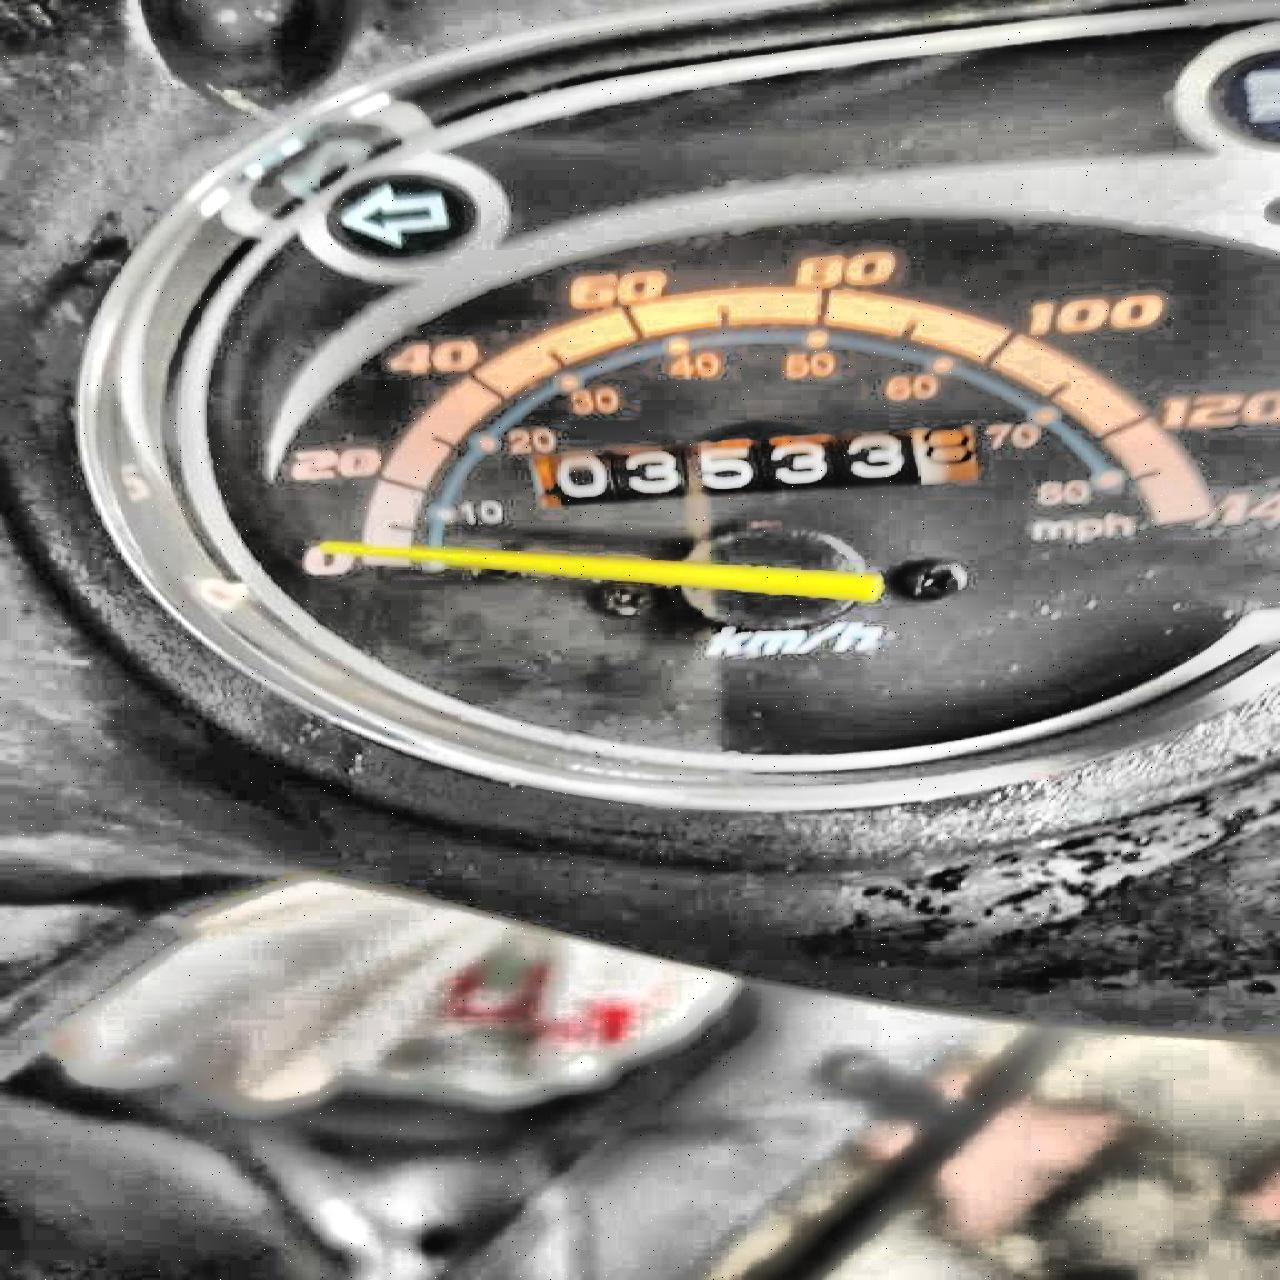0: (551, 451, 610, 498), (529, 427, 556, 451)
3: (767, 437, 831, 486), (844, 431, 906, 481), (620, 448, 680, 497)
5: (694, 444, 756, 491)
8: (922, 423, 974, 469)
odometer: (524, 422, 989, 512)
